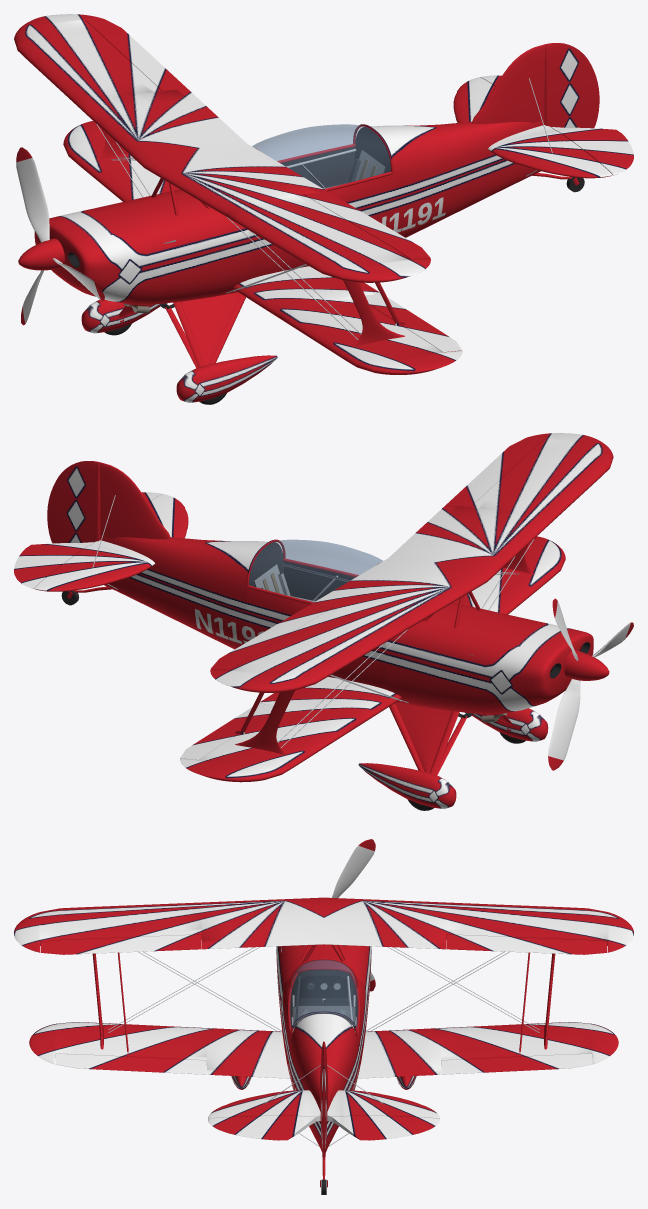
Rendered from pitts-s2b-like-own-n1191.glb.
3 views of the same model, one above another, from view 1: azimuth 30°, elevation 25°; view 2: azimuth 150°, elevation 25°; view 3: azimuth 270°, elevation 25° (orthographic). The views are drawn at different scales.
Parts seen in each view (by area): view 1: Fuselage_Painted, Wing_Upper, Wing_Lower, Canopy_Glass, Stab, Rudder, Wheel_Pants, Fin, Prop, Gear_Fairing, Elevator_L, Aileron_UR (+8 smaller); view 2: Fuselage_Painted, Wing_Upper, Wing_Lower, Canopy_Glass, Stab, Rudder, Wheel_Pants, Fin, Prop, Gear_Fairing, Elevator_R, Aileron_UL (+8 smaller); view 3: Wing_Upper, Wing_Lower, Fuselage_Painted, Stab, Canopy_Glass, Aileron_UL, Aileron_UR, Cockpit, Aileron_LL, Aileron_LR, Elevator_L, Elevator_R (+5 smaller).
Boxes of the visible parts, x1,y1,x2,y2 form: Fuselage_Painted: (34, 120, 544, 304); Wing_Upper: (14, 14, 430, 282); Wing_Lower: (63, 121, 462, 374); Canopy_Glass: (252, 124, 390, 188); Stab: (453, 77, 612, 178); Rudder: (544, 43, 599, 128); Wheel_Pants: (81, 299, 277, 402); Fin: (471, 44, 545, 123); Prop: (16, 147, 104, 325); Gear_Fairing: (127, 292, 239, 365); Elevator_L: (551, 127, 633, 175); Aileron_UR: (85, 19, 187, 90); Fuselage_Painted: (100, 536, 593, 714); Wing_Upper: (210, 433, 613, 692); Wing_Lower: (180, 536, 565, 782); Canopy_Glass: (249, 539, 382, 601); Stab: (34, 494, 188, 591); Rudder: (47, 461, 100, 543); Wheel_Pants: (358, 708, 548, 808); Fin: (99, 462, 170, 539); Prop: (548, 598, 633, 770); Gear_Fairing: (395, 702, 503, 773); Elevator_R: (14, 542, 93, 588); Aileron_UL: (445, 437, 544, 507); Wing_Upper: (14, 897, 633, 952); Wing_Lower: (29, 1022, 618, 1078); Fuselage_Painted: (276, 944, 371, 1153); Stab: (208, 1090, 439, 1121); Canopy_Glass: (289, 960, 358, 1029); Aileron_UL: (40, 934, 201, 954); Aileron_UR: (446, 934, 607, 954); Cockpit: (291, 975, 356, 1032); Aileron_LL: (56, 1052, 206, 1074); Aileron_LR: (441, 1052, 591, 1074); Elevator_L: (208, 1116, 315, 1140); Elevator_R: (332, 1116, 439, 1140).
Bounding box in the file's own units: 5.72 × 2.18 × 6.09.
30 materials, 8 textured.
